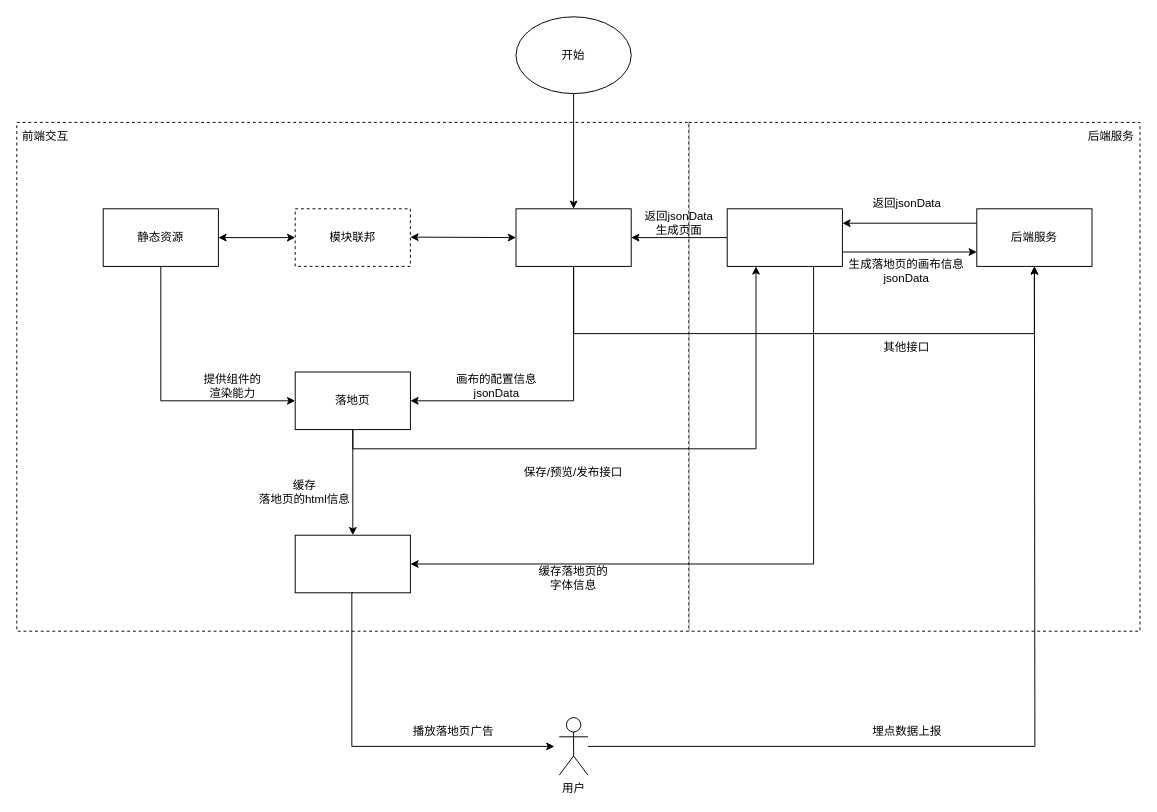
This 1157x812 diagram has some shape labels left out. The shapes that lost their labels are listed below. From the top down, each one's box as (x1, y1, x2, y2) in pixels, then its label:
(515, 208, 631, 266): 主站
(726, 208, 842, 266): node服务
(294, 534, 410, 593): OCS
